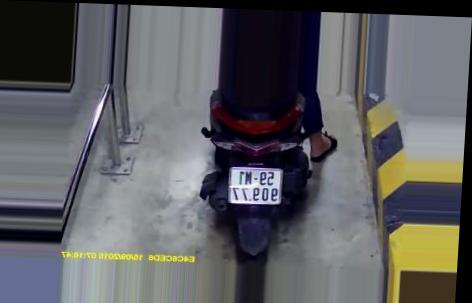License_Plate: (222, 165, 288, 208)
